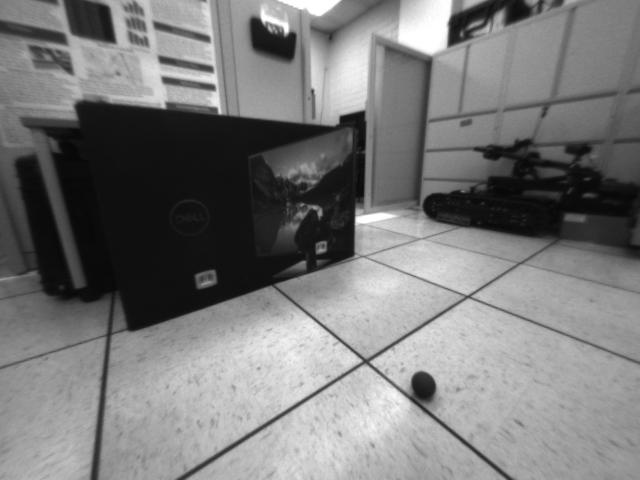dogtoy: (406, 366, 439, 406)
